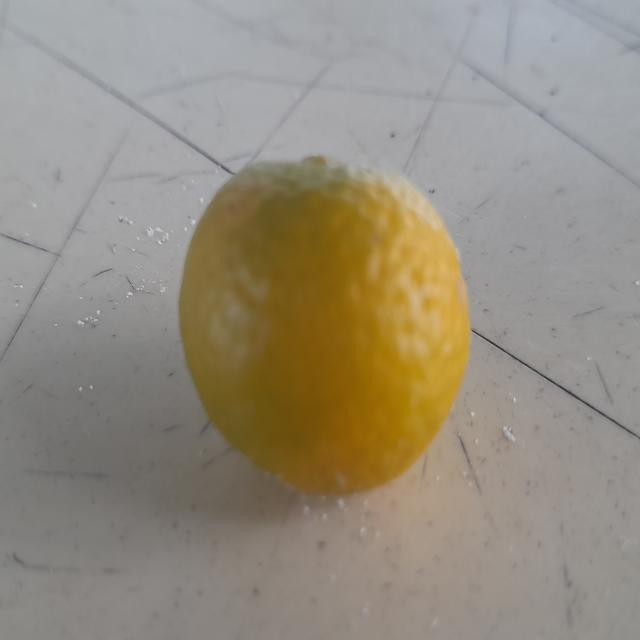greening: (165, 151, 478, 493)
